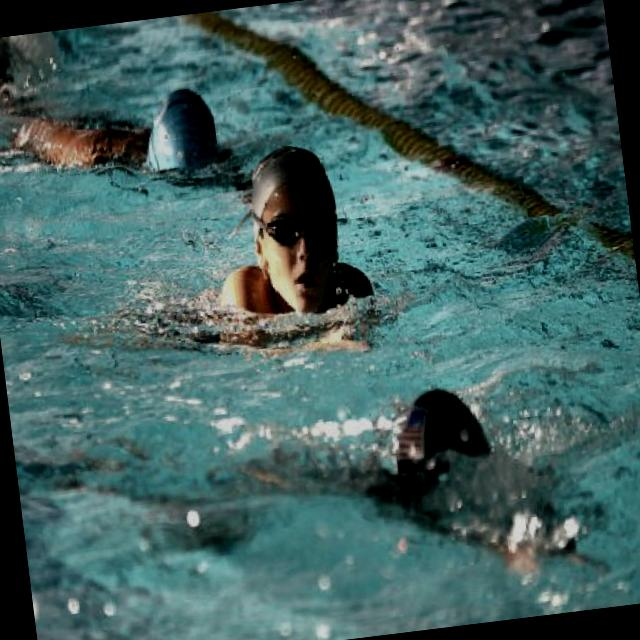Person: (203, 115, 372, 352), (11, 78, 225, 208)
